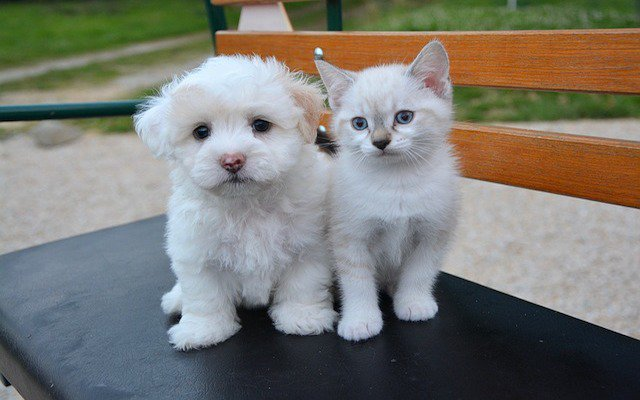cat: (293, 42, 477, 330)
dog: (136, 45, 335, 335)
